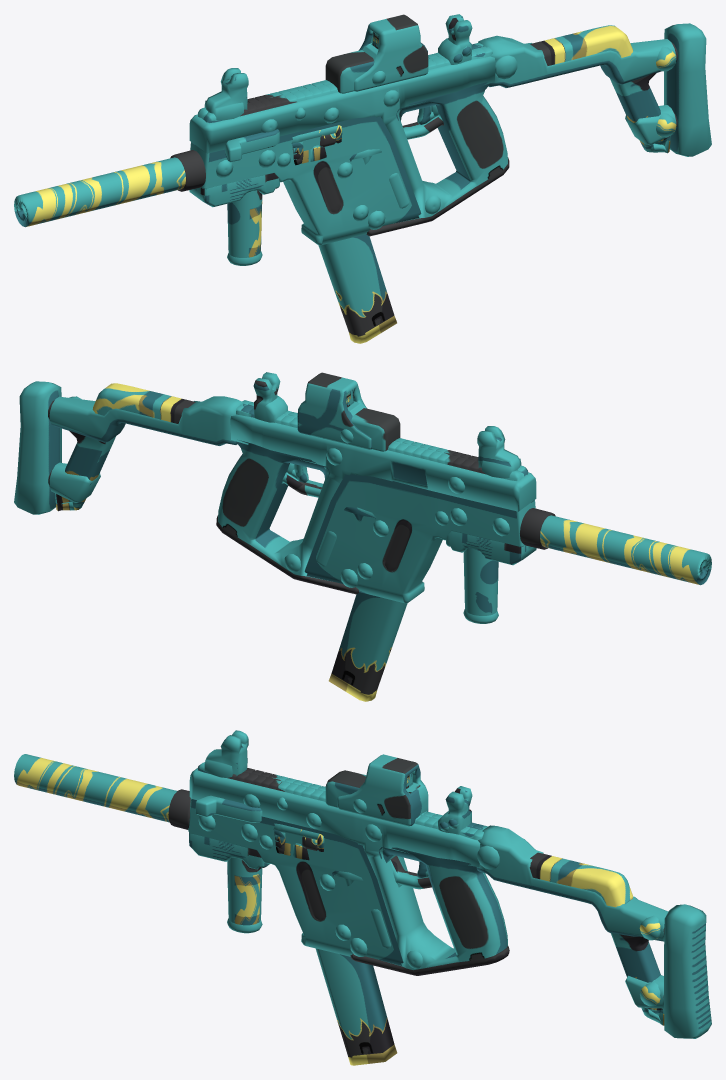
Rendered from kriss_vector.obj.
3 views of the same model, one above another, from view 1: azimuth 30°, elevation 25°; view 2: azimuth 150°, elevation 25°; view 3: azimuth 330°, elevation 25° (orthographic).
Parts seen in each view (by area): view 1: KRISS_VECTOR; view 2: KRISS_VECTOR; view 3: KRISS_VECTOR.
Part boxes in pixels (x1=…): KRISS_VECTOR: x1=14, y1=14, x2=711, y2=343; KRISS_VECTOR: x1=14, y1=372, x2=711, y2=701; KRISS_VECTOR: x1=14, y1=730, x2=711, y2=1065.
Bounding box in the file's own units: 10.5 × 4.53 × 0.7516.
